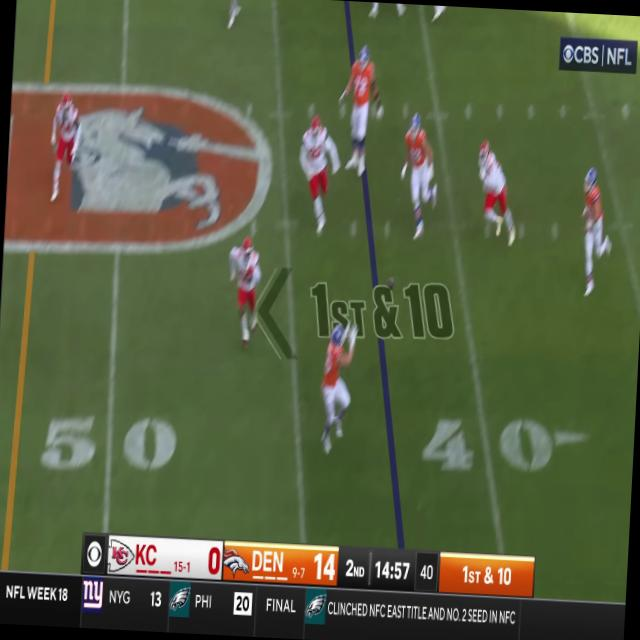Player: (336, 42, 390, 175), (398, 109, 443, 242), (319, 316, 361, 458), (294, 115, 342, 238), (471, 140, 521, 250), (224, 236, 268, 352), (577, 168, 615, 300), (46, 91, 84, 206)
